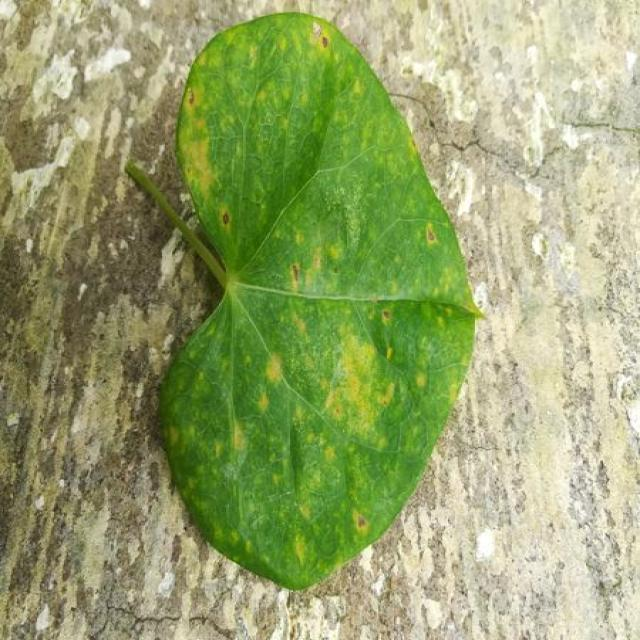Amruthaballi: (127, 12, 480, 588)
disease in leaf: (162, 14, 423, 588)
